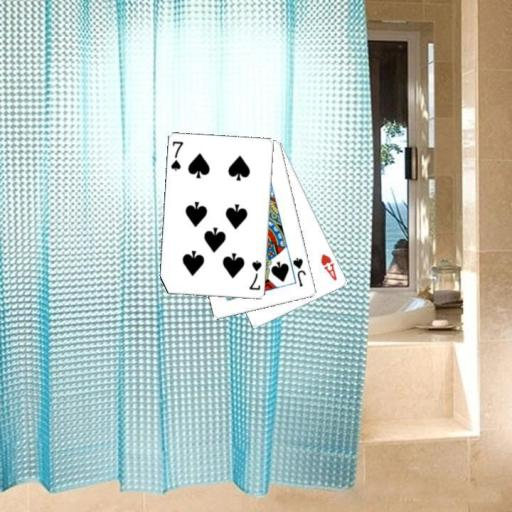7S: (246, 258, 263, 292), (168, 138, 185, 172)
AH: (318, 251, 338, 283)
JS: (290, 255, 308, 288)
